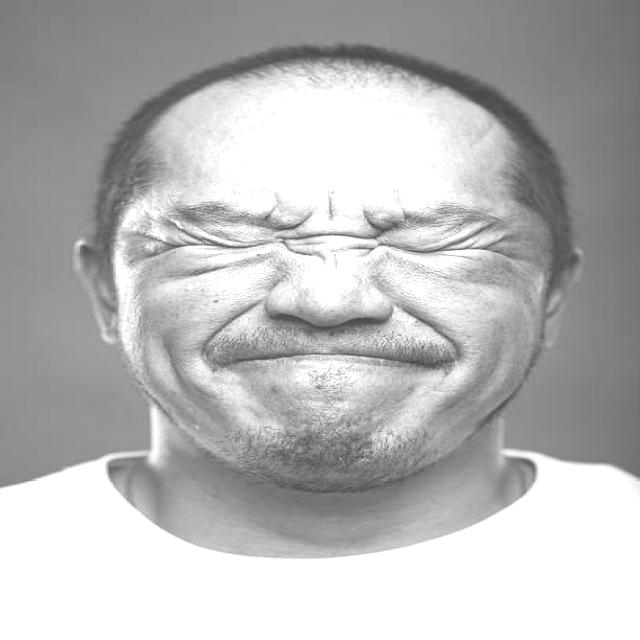real: (74, 51, 585, 496), (118, 184, 554, 288)
